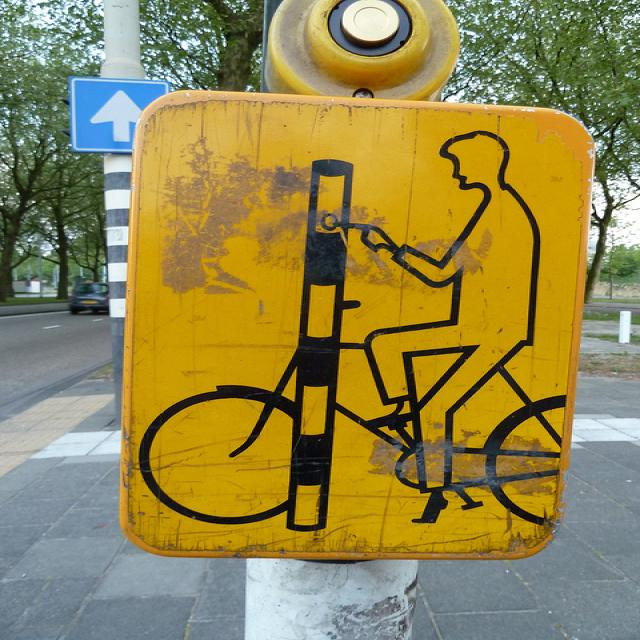Vehicle: (69, 282, 110, 314)
